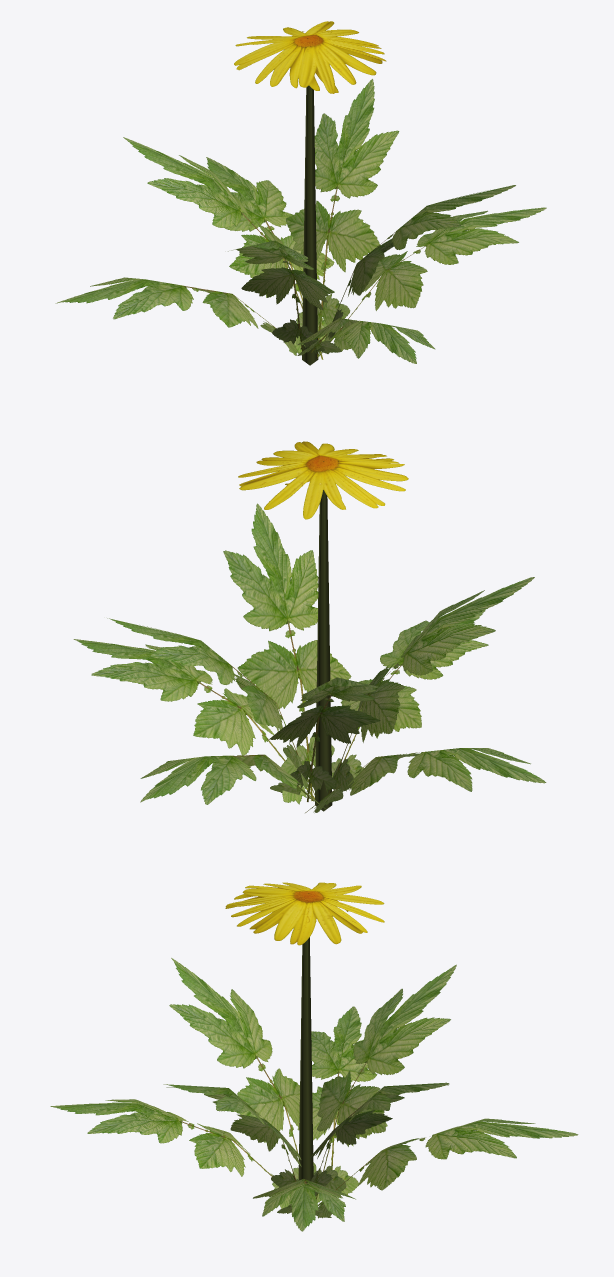
File: flower plant6.FBX
3 renders of one model, top to bottom at view 1: azimuth 30°, elevation 25°; view 2: azimuth 150°, elevation 25°; view 3: azimuth 270°, elevation 25°, orthographic. The views are drawn at different scales.
Parts seen in each view (by area): view 1: Cylinder001; view 2: Cylinder001; view 3: Cylinder001.
Boxes of the visible parts, x1,y1,x2,y2 form: Cylinder001: [55, 21, 546, 365]; Cylinder001: [73, 441, 546, 812]; Cylinder001: [50, 882, 578, 1231].
Bounding box in the file's own units: 6.33 × 3.99 × 6.28.
